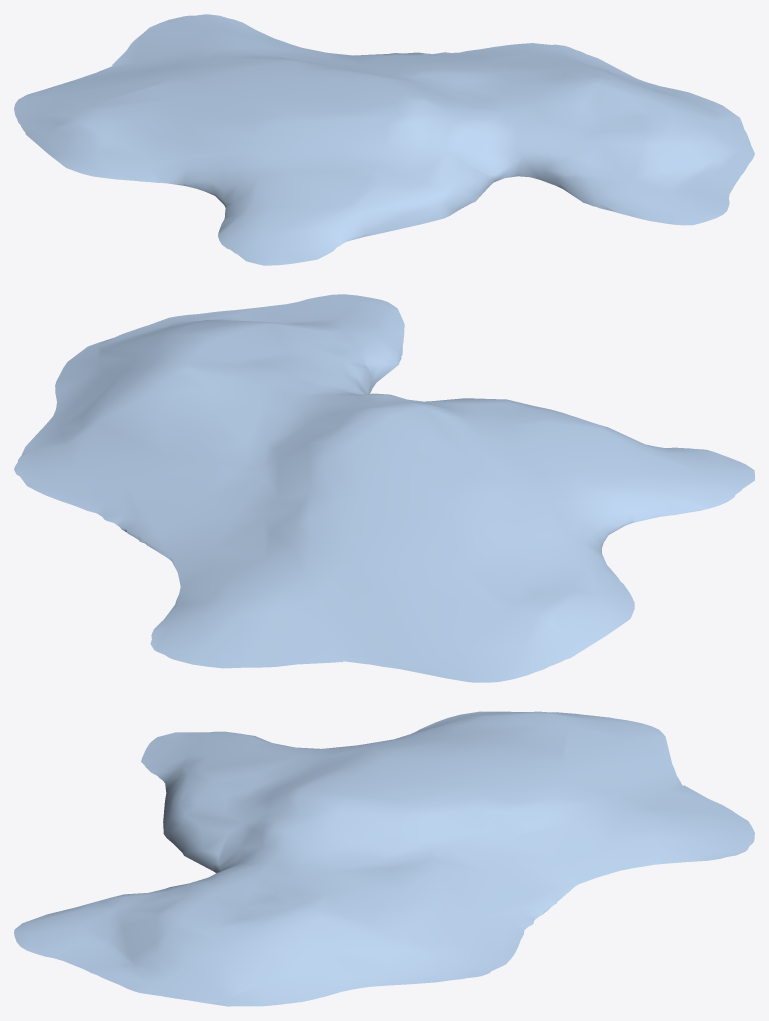
Rendered from IcePatchSmall_02.fbx.
3 views of the same model, one above another, from view 1: azimuth 30°, elevation 25°; view 2: azimuth 150°, elevation 25°; view 3: azimuth 270°, elevation 25° (orthographic). The views are drawn at different scales.
Visible parts, largest first — view 1: IcePatchSmall_02.001; view 2: IcePatchSmall_02.001; view 3: IcePatchSmall_02.001.
Boxes of the visible parts, box(x1,y1,x2,y2) form: IcePatchSmall_02.001: box(14, 14, 754, 265); IcePatchSmall_02.001: box(14, 294, 754, 682); IcePatchSmall_02.001: box(14, 711, 754, 1006).
Bounding box in the file's own units: 1.71 × 0.1529 × 1.81.
